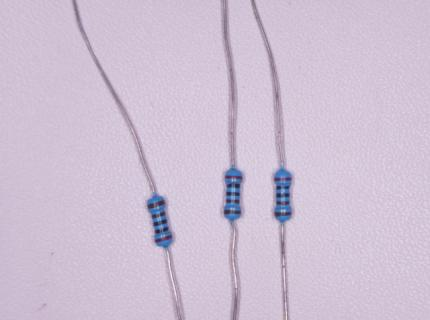Black band: (153, 219, 168, 227), (155, 227, 170, 234), (276, 185, 290, 190), (276, 193, 290, 198), (226, 192, 240, 196), (227, 184, 240, 188)
Brown band: (148, 200, 166, 209), (151, 211, 166, 219), (274, 211, 291, 217), (224, 210, 241, 215), (226, 199, 240, 203), (276, 201, 290, 205)
Red band: (155, 234, 173, 243), (225, 176, 243, 180), (274, 177, 292, 181)
